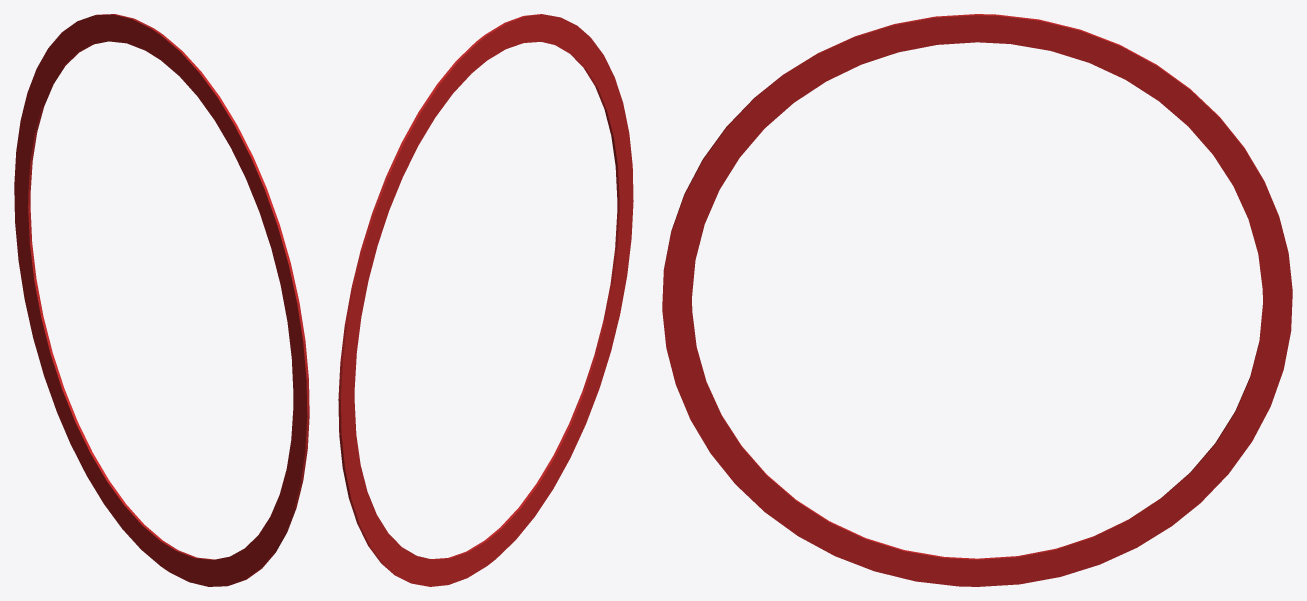
The model's file is converted_link2_26_d12626ff.obj.
3 renders of one model, left to right at view 1: azimuth 30°, elevation 25°; view 2: azimuth 150°, elevation 25°; view 3: azimuth 270°, elevation 25°, orthographic. The views are drawn at different scales.
Size of the model in its own units: 0.0001 by 0.021 by 0.021.
